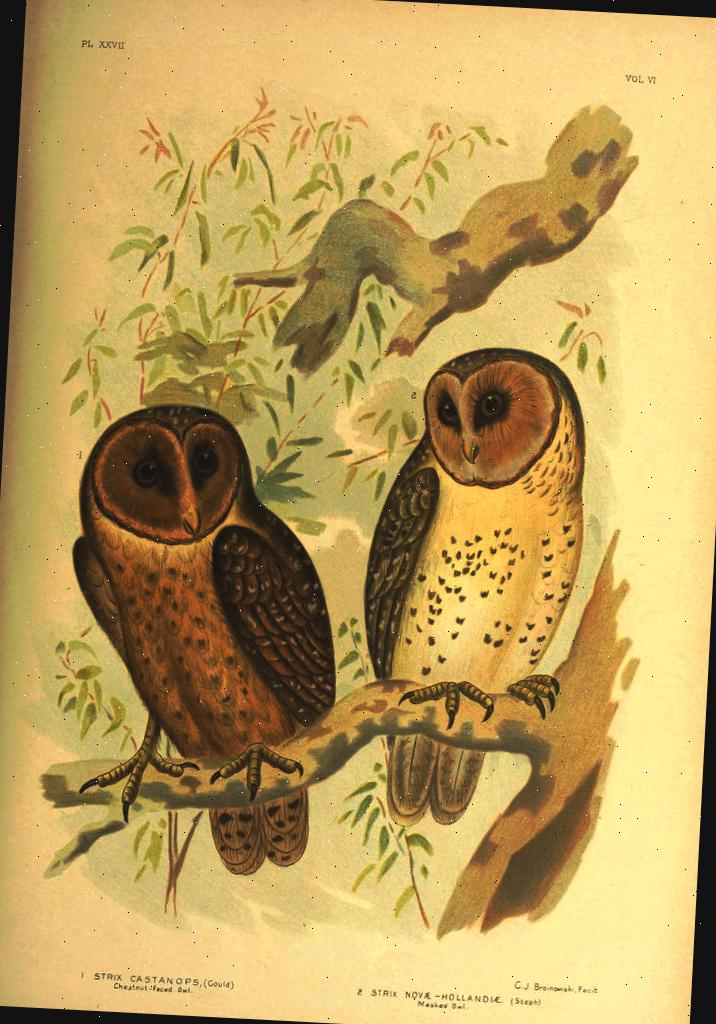Owl: (53, 394, 349, 870), (349, 338, 593, 832)
